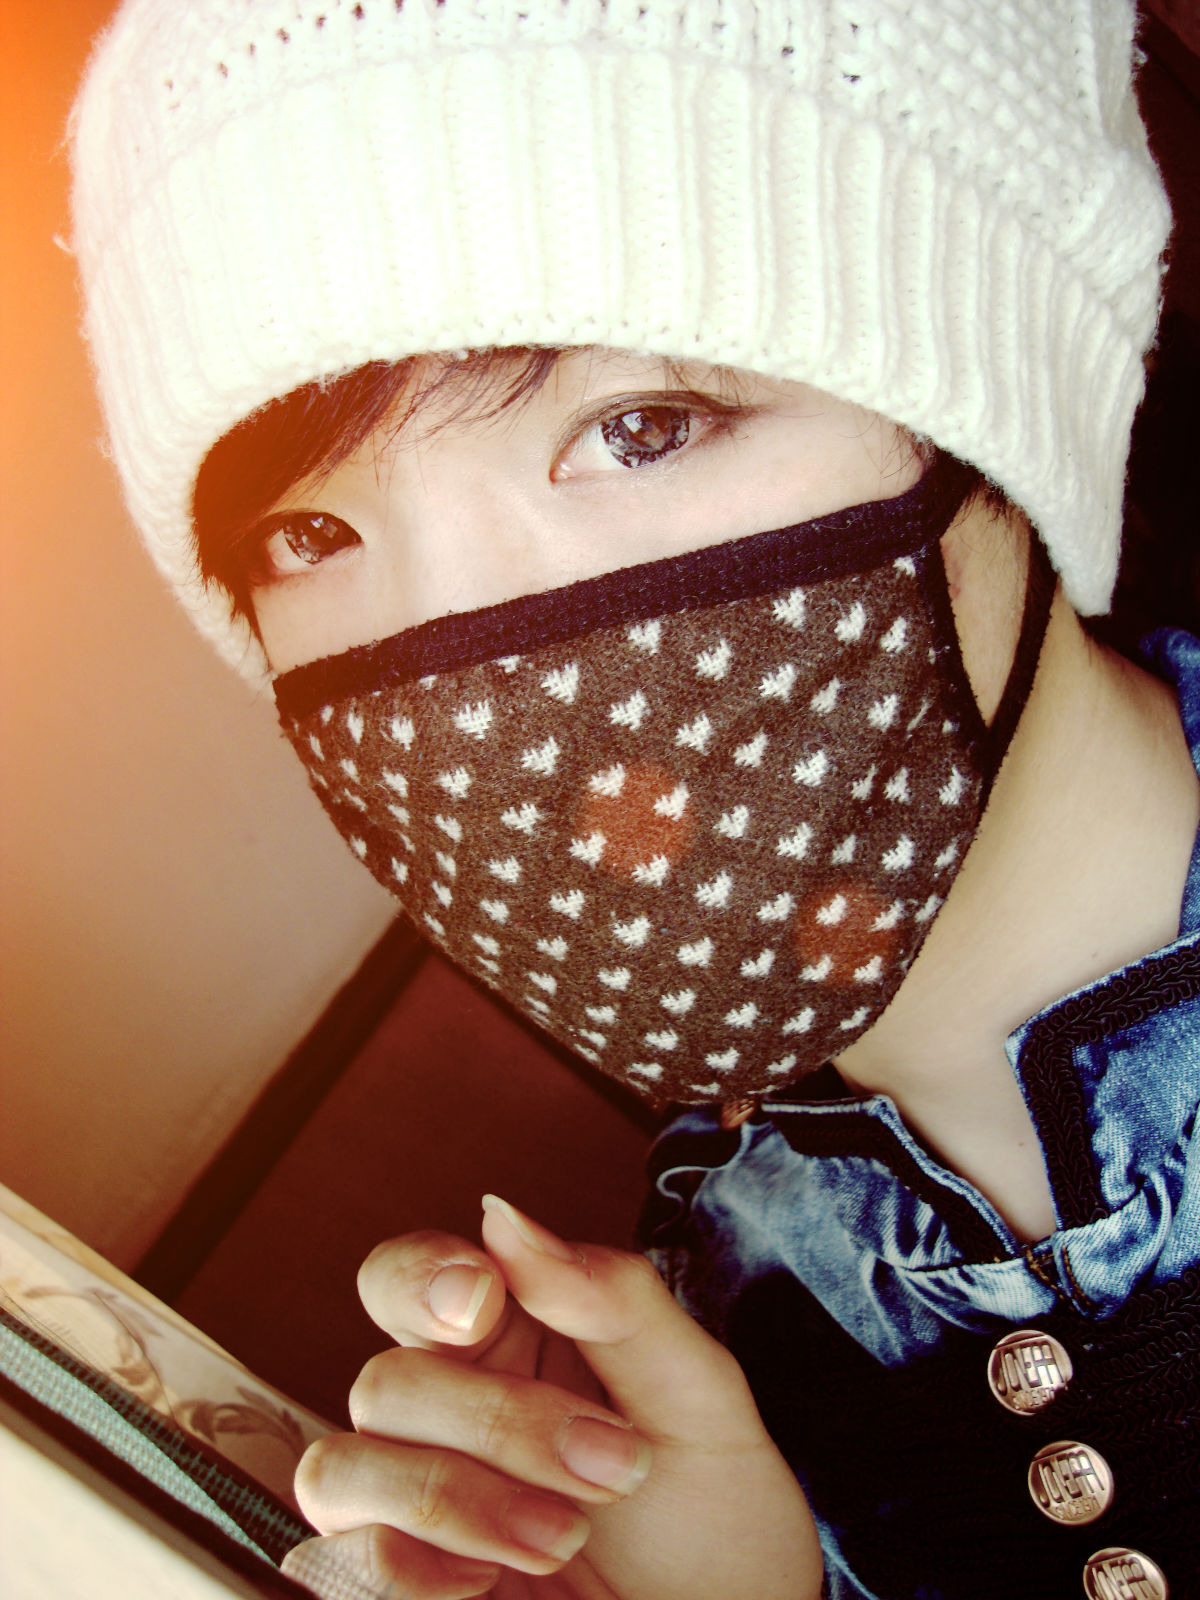face_mask: (229, 199, 944, 1113)
